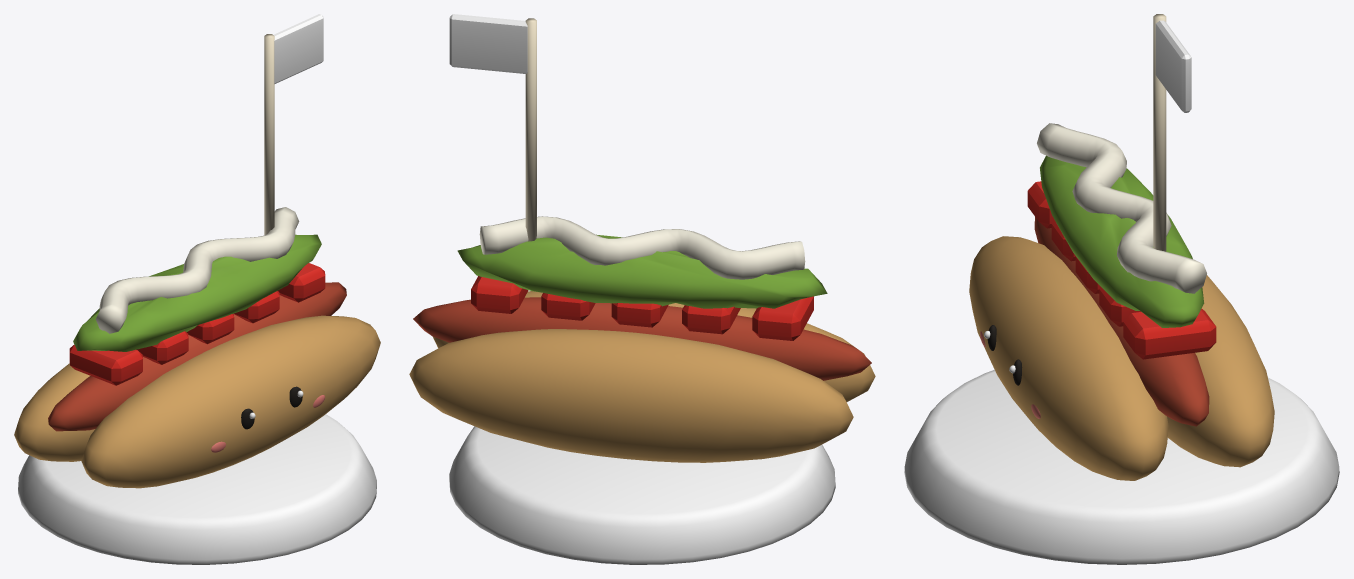
File: completo-pqi163RS.glb
3 views of the same model, side by side, from view 1: azimuth 30°, elevation 25°; view 2: azimuth 150°, elevation 25°; view 3: azimuth 270°, elevation 25° (orthographic). The views are drawn at different scales.
Visible parts, largest first — view 1: Body, Tint; view 2: Body, Tint; view 3: Body, Tint.
Boxes of the visible parts, box(x1,y1,x2,y2) form: Body: box(14, 34, 380, 488); Tint: box(18, 14, 376, 564); Body: box(409, 18, 875, 462); Tint: box(449, 14, 835, 564); Body: box(969, 14, 1274, 480); Tint: box(904, 20, 1339, 564).
Bounding box in the file's own units: 1.22 × 1.32 × 1.02.
Materials: 2 (2 with a texture image).
